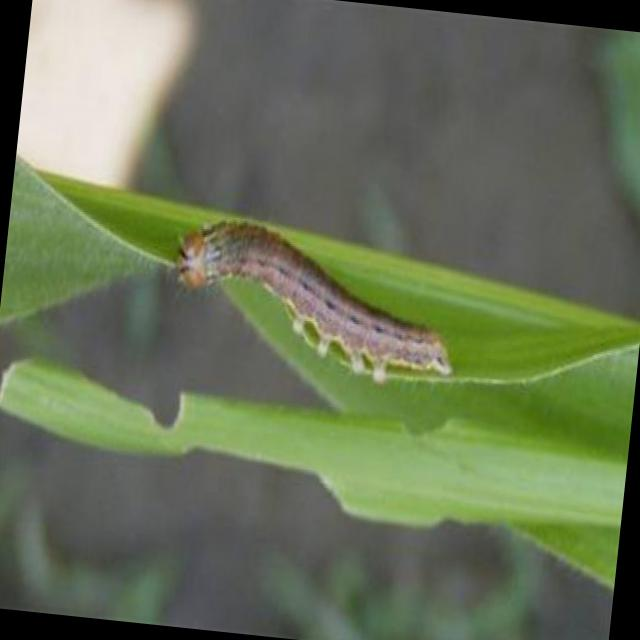armyworm: (160, 202, 479, 397)
